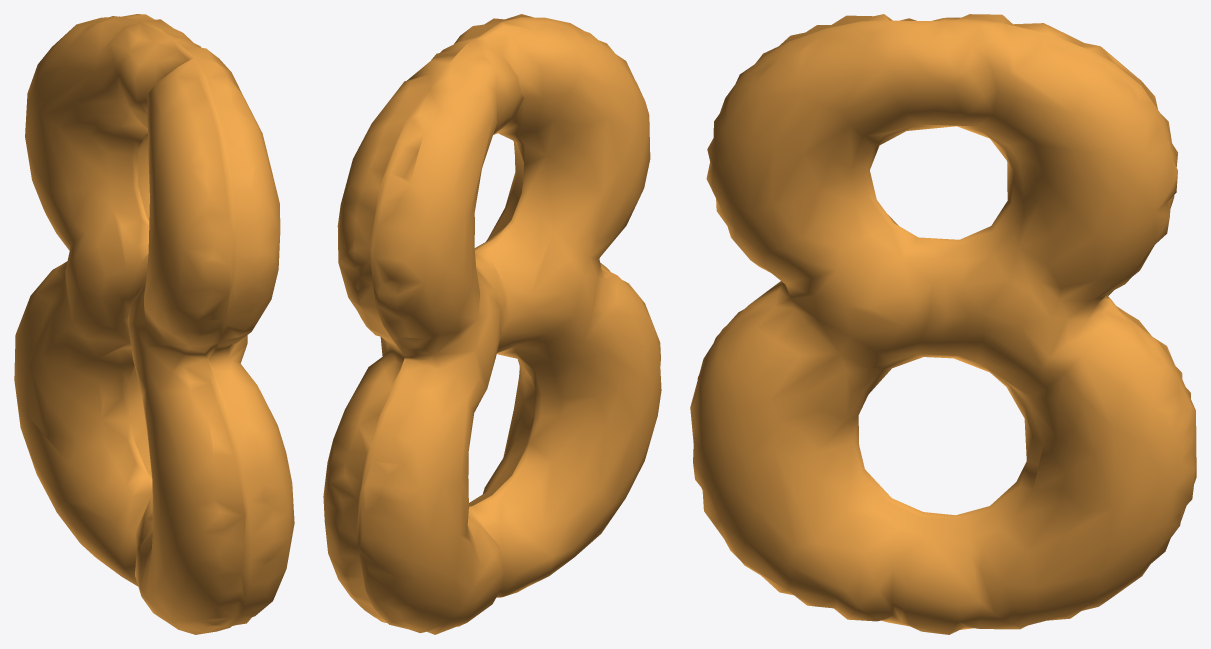
Rendered from pillow8.glb.
3 views of the same model, side by side, from view 1: azimuth 30°, elevation 25°; view 2: azimuth 150°, elevation 25°; view 3: azimuth 270°, elevation 25° (orthographic). The views are drawn at different scales.
Parts seen in each view (by area): view 1: 8; view 2: 8; view 3: 8.
Boxes of the visible parts, <box> form: 8: <box>14,14,294,634</box>; 8: <box>323,14,661,634</box>; 8: <box>690,14,1196,634</box>.
Size of the model in its own units: 1.29 by 4.57 by 3.45.
